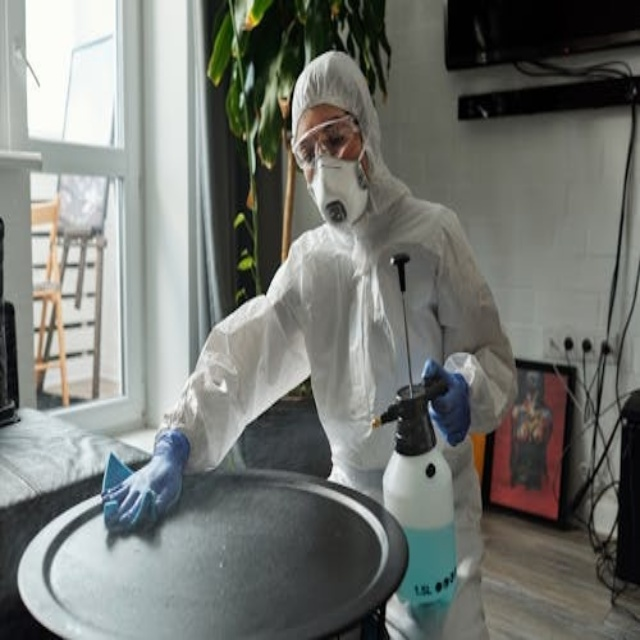Gafas: (293, 113, 363, 168)
Guantes: (104, 428, 191, 535), (423, 357, 471, 448)
Mascara: (305, 145, 370, 228)
